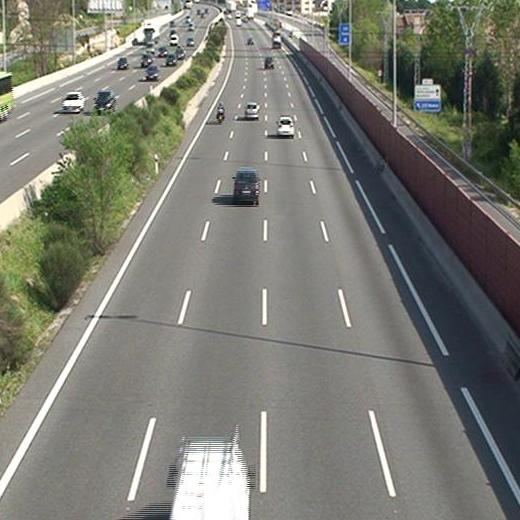car: (233, 167, 260, 203), (276, 116, 294, 136), (244, 103, 259, 120), (263, 56, 274, 69)
motorcycle: (216, 100, 225, 124)
